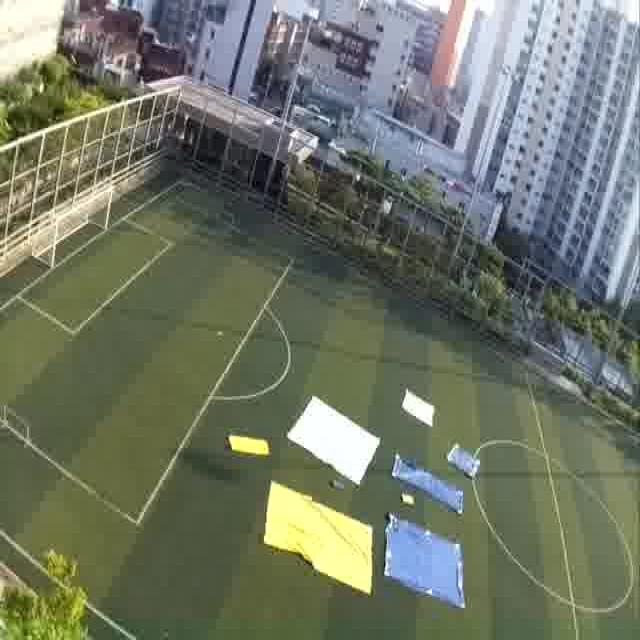danger: (384, 518, 464, 612), (388, 448, 440, 492), (444, 440, 485, 480)
safety: (284, 388, 383, 486), (396, 381, 440, 433)
warning: (262, 496, 376, 608), (222, 429, 274, 466)
